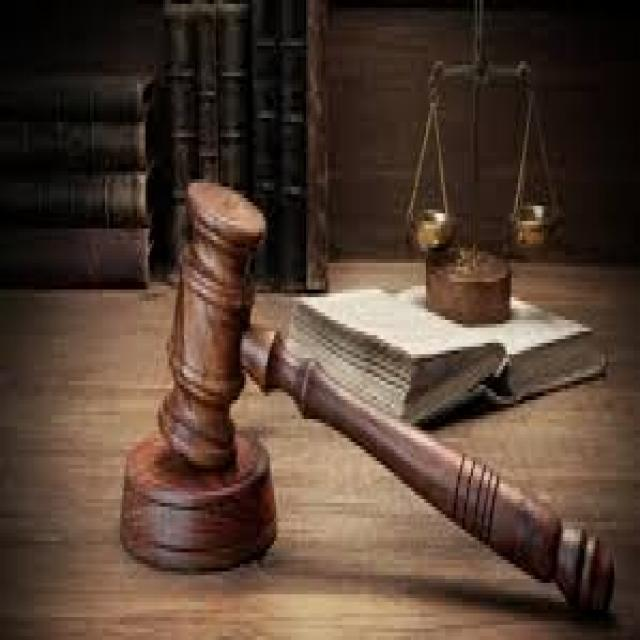hammer: (156, 170, 621, 630)
